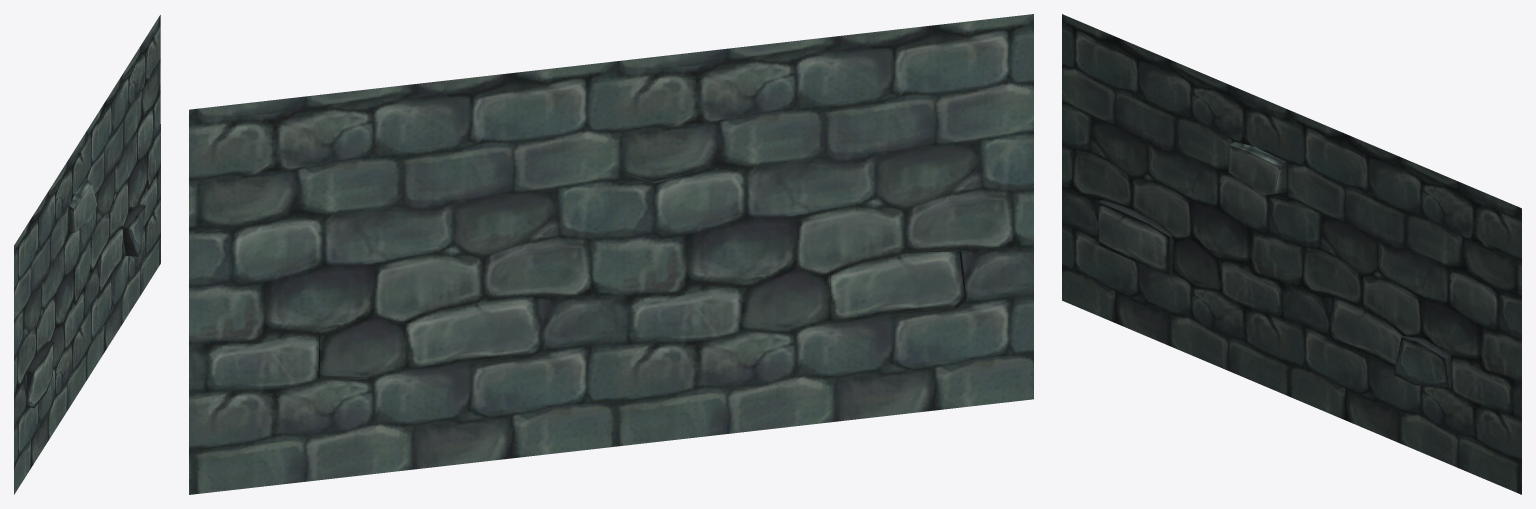
The model's file is crypt_half_diagnol_02.fbx.
The picture shows the model from 3 angles, left to right: view 1: azimuth 30°, elevation 25°; view 2: azimuth 150°, elevation 25°; view 3: azimuth 270°, elevation 25°; orthographic projection. The views are drawn at different scales.
Visible parts, largest first — view 1: crypt_half_diagnol_02-0; view 2: crypt_half_diagnol_02-0; view 3: crypt_half_diagnol_02-0.
Part boxes in pixels (x1=…): crypt_half_diagnol_02-0: x1=14, y1=15, x2=160, y2=494; crypt_half_diagnol_02-0: x1=189, y1=14, x2=1033, y2=494; crypt_half_diagnol_02-0: x1=1062, y1=14, x2=1521, y2=494.
Size of the model in its own units: 4 by 2.75 by 4.
